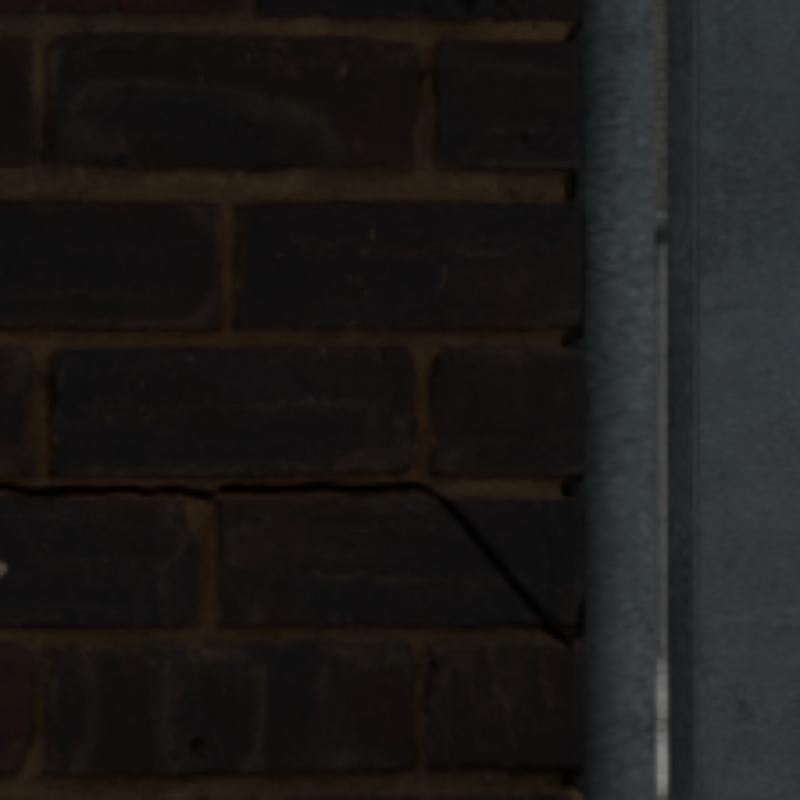pothole: (0, 482, 571, 646), (29, 357, 50, 389), (418, 64, 436, 79)
